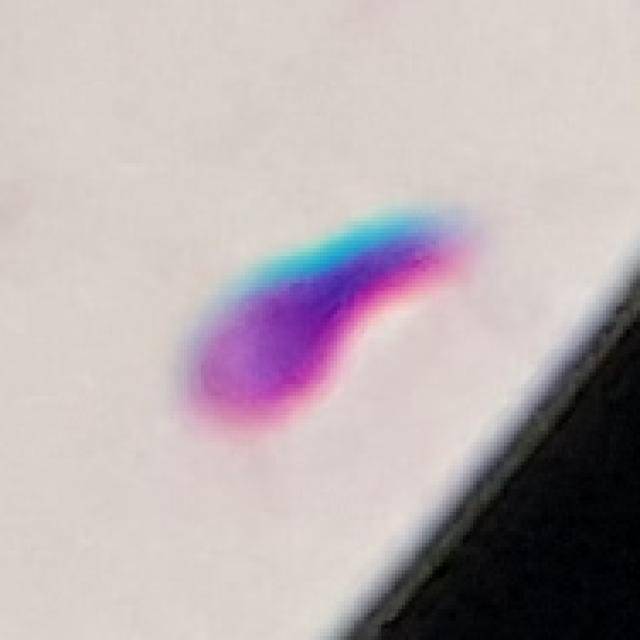non-sperm: (144, 188, 504, 439)
